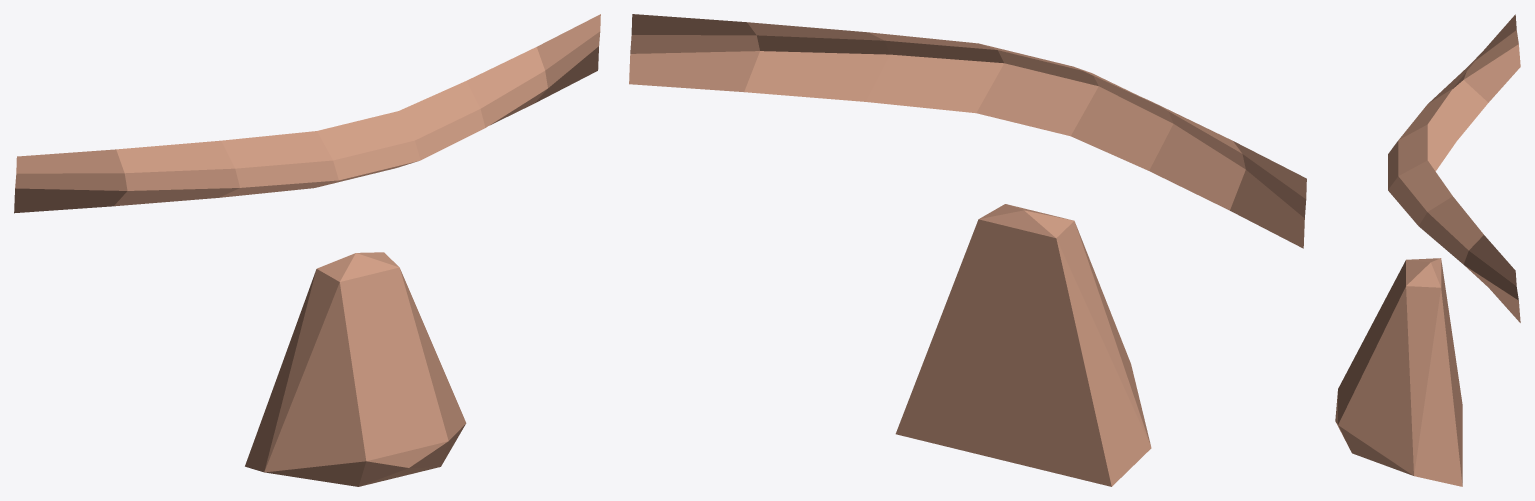
Rendered from nose_gl_broad.glb.
The picture shows the model from 3 angles, left to right: view 1: azimuth 30°, elevation 25°; view 2: azimuth 150°, elevation 25°; view 3: azimuth 270°, elevation 25°; orthographic projection. The views are drawn at different scales.
Parts seen in each view (by area): view 1: Snout; view 2: Snout; view 3: Snout.
Part boxes in pixels (bbox=[...]): Snout: bbox=[14, 14, 600, 486]; Snout: bbox=[629, 14, 1306, 486]; Snout: bbox=[1335, 14, 1520, 486].
Bounding box in the file's own units: 0.156 × 0.086 × 0.0476.
Materials: 1 (1 with a texture image).
